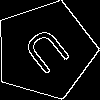U: (20, 25, 79, 84)
